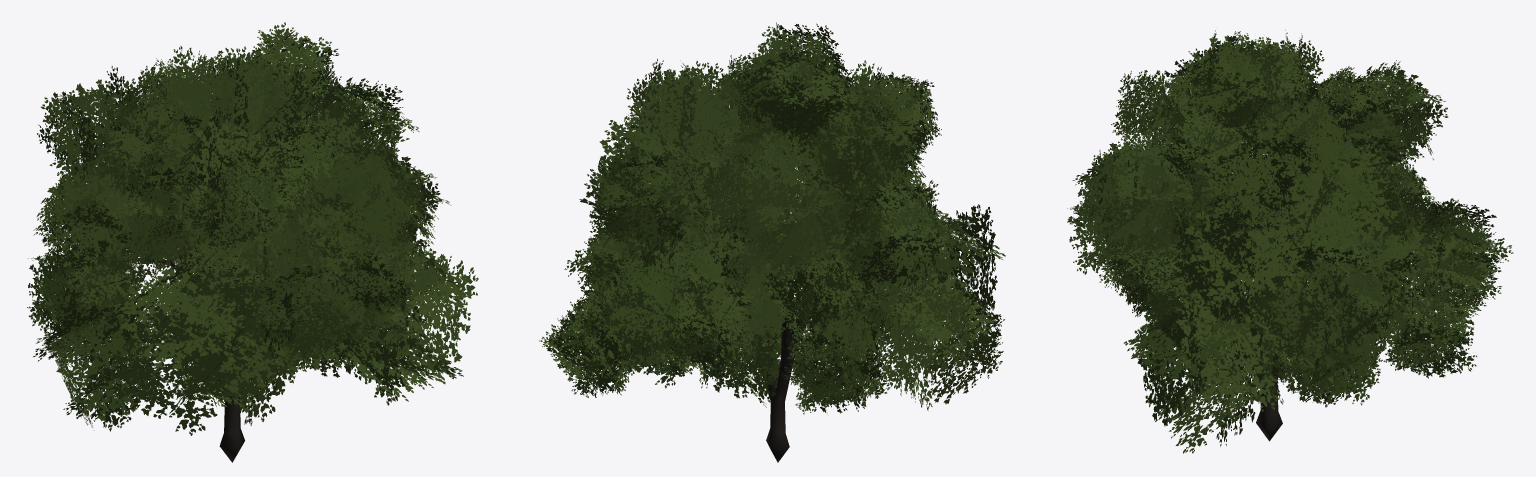
The model's file is tree_big_c.glb.
The picture shows the model from 3 angles, left to right: view 1: azimuth 30°, elevation 25°; view 2: azimuth 150°, elevation 25°; view 3: azimuth 270°, elevation 25°; orthographic projection. The views are drawn at different scales.
Parts seen in each view (by area): view 1: Object_44, Object_43; view 2: Object_44, Object_43; view 3: Object_44, Object_43.
Part boxes in pixels (x1=…): Object_44: x1=27, y1=22, x2=478, y2=435; Object_43: x1=147, y1=236, x2=260, y2=462; Object_44: x1=539, y1=22, x2=1005, y2=414; Object_43: x1=758, y1=263, x2=851, y2=462; Object_44: x1=1067, y1=30, x2=1513, y2=453; Object_43: x1=1221, y1=268, x2=1313, y2=441.
Bounding box in the file's own units: 13.42 × 12.8 × 12.87.
2 materials, 1 textured.
